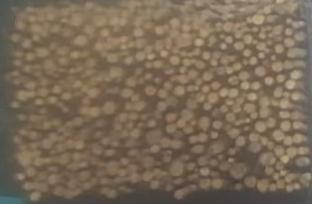medium: (229, 163, 249, 178), (147, 129, 163, 145), (287, 48, 307, 60), (170, 161, 184, 177), (64, 187, 81, 199), (18, 153, 31, 168), (262, 152, 276, 165), (108, 162, 120, 177), (257, 180, 270, 193), (296, 156, 309, 168), (101, 102, 114, 114), (199, 117, 210, 131), (110, 65, 124, 76), (182, 109, 194, 121), (208, 179, 222, 189), (301, 173, 311, 187), (93, 16, 107, 26), (246, 176, 258, 187), (154, 38, 164, 51), (174, 87, 186, 97), (272, 132, 284, 142), (253, 13, 265, 23), (71, 15, 83, 25), (16, 91, 28, 101), (45, 61, 54, 74), (36, 48, 49, 57), (255, 121, 265, 132), (160, 139, 170, 150), (201, 180, 211, 191), (260, 106, 269, 118), (166, 113, 178, 122), (295, 32, 305, 42), (194, 144, 204, 154), (221, 161, 231, 171), (75, 36, 85, 46), (187, 99, 197, 108), (250, 143, 260, 152), (198, 157, 207, 167), (174, 192, 184, 201), (250, 132, 259, 142), (177, 119, 186, 129), (30, 191, 40, 200), (239, 72, 250, 80), (294, 62, 306, 69), (229, 76, 238, 85), (198, 135, 207, 144), (228, 89, 237, 98), (226, 113, 235, 122), (172, 140, 180, 150), (229, 130, 239, 138), (245, 105, 255, 113), (275, 147, 283, 157), (292, 135, 302, 143), (208, 94, 218, 102), (212, 121, 222, 129), (166, 183, 174, 193), (212, 82, 221, 90), (277, 74, 285, 83), (201, 166, 209, 175), (282, 121, 290, 130), (282, 155, 290, 164), (288, 147, 296, 156), (219, 89, 227, 98), (166, 125, 175, 133), (184, 126, 193, 134), (292, 122, 302, 129), (284, 137, 292, 145), (275, 89, 283, 97), (197, 94, 205, 102), (291, 113, 299, 121), (189, 136, 198, 143), (235, 138, 244, 145), (205, 103, 212, 112), (286, 185, 294, 192), (241, 83, 248, 91), (292, 92, 301, 98), (267, 120, 274, 127), (277, 181, 284, 188), (270, 184, 277, 191), (252, 83, 259, 90), (281, 112, 289, 118), (249, 93, 256, 99), (299, 147, 305, 154)
small: (129, 174, 142, 186), (133, 101, 147, 111), (142, 157, 154, 168), (93, 143, 102, 156), (122, 88, 133, 98), (59, 155, 69, 166), (85, 59, 97, 68), (97, 73, 106, 85), (87, 89, 99, 98), (169, 56, 181, 65), (208, 36, 217, 48), (126, 77, 136, 87), (163, 81, 173, 91), (273, 62, 283, 72), (37, 88, 48, 97), (89, 107, 100, 116), (144, 22, 155, 31), (145, 86, 156, 95), (273, 26, 284, 35), (284, 60, 293, 71), (81, 127, 89, 139), (42, 139, 51, 149), (125, 140, 135, 149), (141, 172, 151, 181), (168, 19, 178, 28), (223, 23, 232, 33), (178, 75, 188, 84), (158, 100, 167, 110), (234, 42, 244, 51), (256, 67, 266, 76), (83, 25, 94, 33), (107, 54, 118, 62), (70, 163, 81, 171), (158, 91, 169, 99), (57, 48, 69, 55), (58, 129, 70, 136), (54, 187, 63, 196), (149, 181, 158, 190), (275, 44, 284, 53), (292, 70, 301, 79), (10, 35, 20, 43), (47, 96, 57, 104), (74, 118, 84, 126), (49, 133, 57, 143), (108, 191, 118, 199), (286, 81, 296, 89), (280, 100, 290, 108), (133, 29, 144, 36), (23, 40, 31, 49), (119, 113, 128, 121), (38, 171, 46, 180), (81, 171, 89, 180), (154, 111, 162, 120), (151, 146, 160, 154), (155, 27, 164, 35), (189, 70, 198, 78), (257, 43, 266, 51), (285, 39, 294, 47), (209, 159, 217, 168), (100, 187, 110, 194), (132, 129, 139, 139), (125, 57, 133, 65), (81, 106, 89, 114), (130, 112, 138, 120), (32, 151, 40, 159), (26, 168, 34, 176), (101, 138, 109, 146), (169, 30, 177, 38), (197, 61, 205, 69), (243, 36, 251, 44), (204, 72, 212, 80), (266, 168, 274, 176), (189, 163, 197, 171), (51, 24, 60, 31), (64, 29, 73, 36), (111, 20, 120, 27), (134, 42, 143, 49), (135, 53, 144, 60), (41, 78, 48, 87), (49, 166, 58, 173), (97, 119, 104, 128), (121, 131, 130, 138), (193, 23, 202, 30), (61, 93, 71, 99), (17, 23, 25, 30), (133, 18, 140, 26), (26, 53, 34, 60), (23, 66, 31, 73), (11, 102, 19, 109), (135, 69, 143, 76), (84, 115, 91, 123), (145, 61, 153, 68), (124, 103, 132, 110), (75, 142, 83, 149), (14, 136, 21, 144), (25, 183, 33, 190), (49, 176, 56, 184), (42, 158, 50, 165), (82, 184, 90, 191), (114, 122, 121, 130), (160, 51, 168, 58), (193, 49, 201, 56), (214, 52, 222, 59), (220, 56, 227, 64), (243, 50, 251, 57), (296, 21, 303, 29), (234, 63, 241, 71), (25, 82, 34, 88), (108, 88, 117, 94), (132, 92, 138, 101), (36, 159, 42, 168), (195, 40, 204, 46), (203, 52, 209, 61), (30, 116, 40, 121), (86, 69, 93, 76), (53, 87, 60, 94), (41, 108, 48, 115), (59, 136, 66, 143), (67, 142, 74, 149), (74, 154, 81, 161), (126, 122, 133, 129), (121, 158, 128, 165), (251, 59, 258, 66), (217, 68, 224, 75), (202, 87, 209, 94), (267, 143, 274, 150), (14, 60, 22, 66), (71, 51, 77, 59), (45, 122, 51, 130), (19, 130, 27, 136), (105, 150, 113, 156), (149, 121, 157, 127), (131, 165, 137, 173), (210, 59, 218, 65), (183, 59, 191, 65), (286, 29, 294, 35), (265, 78, 273, 84), (288, 174, 294, 182), (39, 15, 44, 24), (100, 31, 109, 36), (31, 26, 38, 32), (28, 17, 35, 23), (43, 32, 50, 38), (96, 44, 102, 51), (145, 47, 152, 53), (60, 59, 67, 65), (75, 82, 82, 88), (155, 62, 162, 68), (29, 132, 35, 139), (17, 173, 24, 179), (41, 185, 48, 191), (34, 180, 40, 187), (171, 47, 178, 53), (183, 25, 190, 31), (201, 29, 207, 36), (228, 56, 235, 62), (235, 32, 242, 38), (227, 66, 233, 73), (196, 79, 203, 85), (277, 165, 284, 171), (221, 106, 227, 113), (232, 106, 239, 112), (147, 55, 155, 60), (18, 116, 26, 121), (145, 74, 153, 79), (130, 150, 138, 155), (164, 69, 172, 74), (221, 44, 226, 52), (48, 15, 54, 21), (121, 36, 127, 42), (100, 51, 106, 57), (84, 51, 90, 57), (76, 66, 82, 72), (94, 132, 100, 138), (180, 67, 186, 73), (294, 184, 300, 190), (274, 174, 280, 180), (213, 132, 219, 138), (191, 185, 197, 191), (190, 174, 196, 180), (227, 99, 233, 105), (238, 98, 244, 104), (272, 100, 278, 106), (105, 77, 112, 82), (91, 79, 98, 84), (57, 103, 64, 108), (225, 37, 232, 42), (217, 24, 222, 31), (259, 34, 266, 39), (110, 38, 118, 42), (121, 20, 126, 26), (37, 100, 43, 105), (83, 100, 89, 105), (58, 146, 63, 152), (31, 143, 37, 148), (93, 159, 98, 165), (183, 33, 189, 38), (190, 59, 196, 64), (259, 53, 265, 58), (281, 170, 286, 176), (16, 52, 23, 56), (106, 44, 111, 49), (121, 45, 126, 50), (50, 44, 55, 49), (78, 53, 83, 58), (13, 70, 18, 75), (36, 72, 41, 77), (14, 80, 19, 85), (253, 28, 258, 33), (287, 19, 292, 24), (212, 68, 217, 73), (188, 87, 193, 92), (127, 43, 133, 47), (54, 121, 60, 125), (68, 122, 72, 128), (143, 114, 147, 120), (230, 150, 236, 154), (252, 114, 258, 118), (60, 81, 64, 86), (30, 92, 34, 97), (115, 118, 120, 122), (112, 142, 117, 146), (155, 79, 160, 83), (166, 44, 170, 49), (244, 28, 249, 32), (261, 28, 266, 32), (267, 26, 272, 30), (266, 48, 270, 53), (194, 87, 199, 91), (228, 159, 233, 163), (263, 139, 268, 143), (34, 37, 38, 41), (115, 28, 119, 32), (70, 69, 74, 73), (82, 88, 86, 92), (139, 79, 143, 83), (81, 163, 85, 167), (139, 123, 143, 127), (187, 53, 191, 57), (254, 41, 258, 45), (268, 35, 272, 39), (272, 56, 276, 60), (219, 156, 223, 160), (35, 66, 40, 69), (63, 19, 66, 23), (182, 53, 186, 56), (243, 61, 247, 64), (46, 25, 49, 28), (64, 109, 67, 112), (220, 35, 223, 38), (268, 42, 271, 45), (60, 70, 64, 72)
